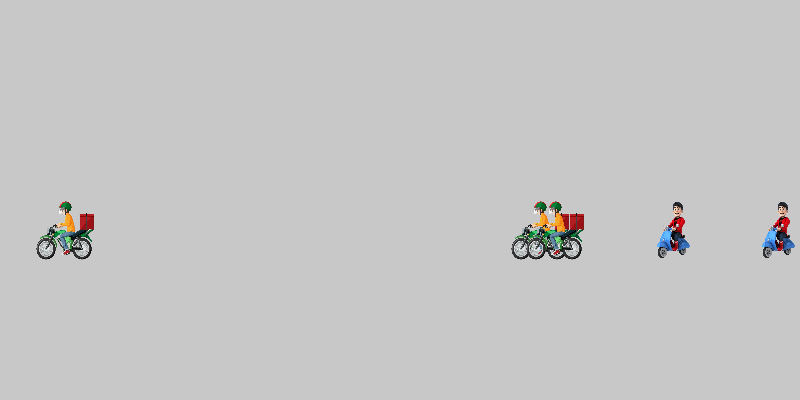helmet: (35, 200, 95, 260), (510, 200, 570, 260), (525, 200, 585, 260)
no_helmet: (645, 200, 705, 260), (750, 200, 800, 260)
